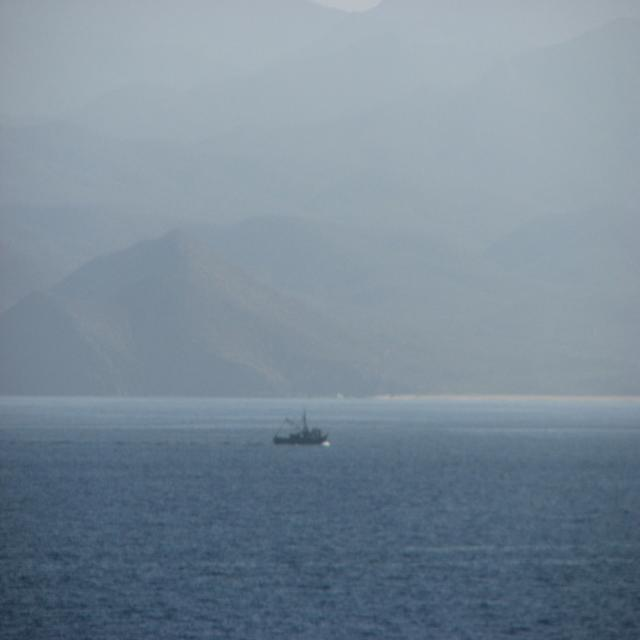fishing boat: (268, 404, 328, 446)
